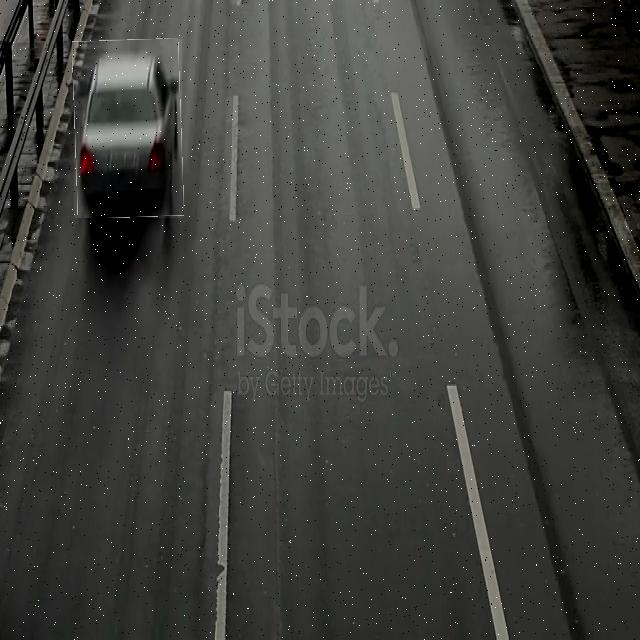Car: (74, 39, 182, 218)
